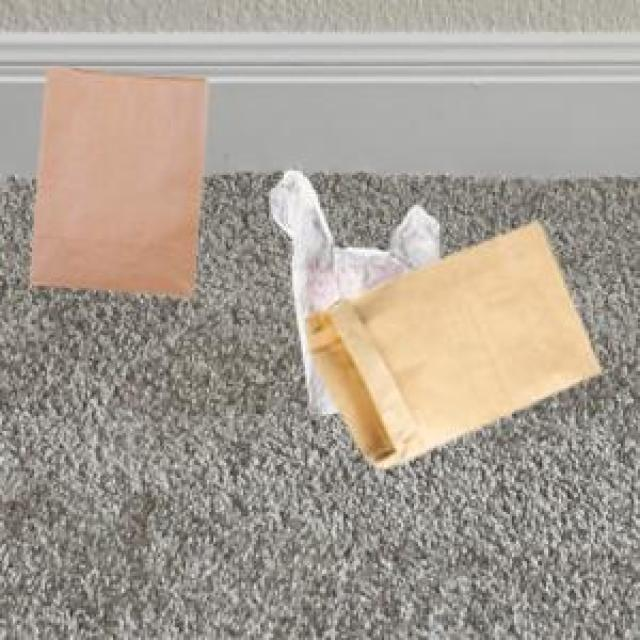paper: (301, 218, 595, 463), (26, 62, 205, 292)
